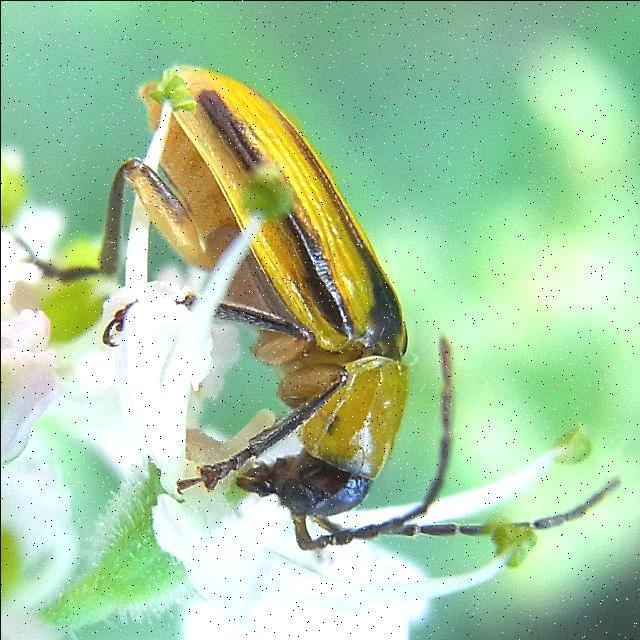trips: (31, 47, 602, 550)
